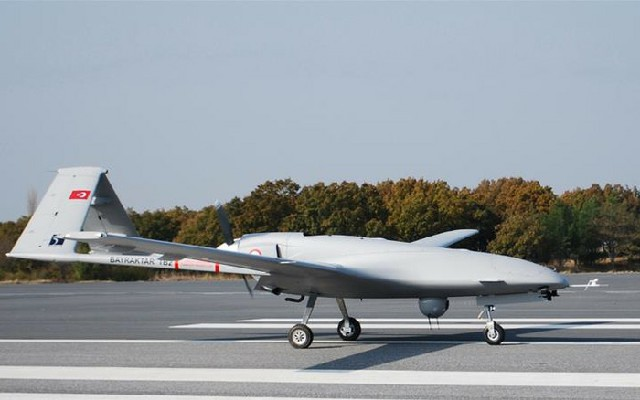maybay_khongnguoilai: (9, 164, 570, 339)
